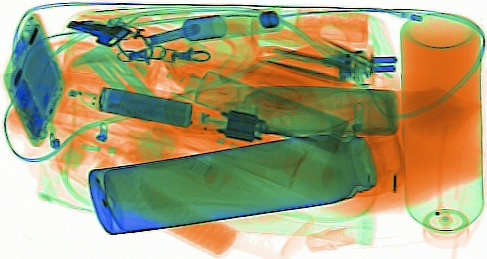pressure: (395, 11, 483, 245)
